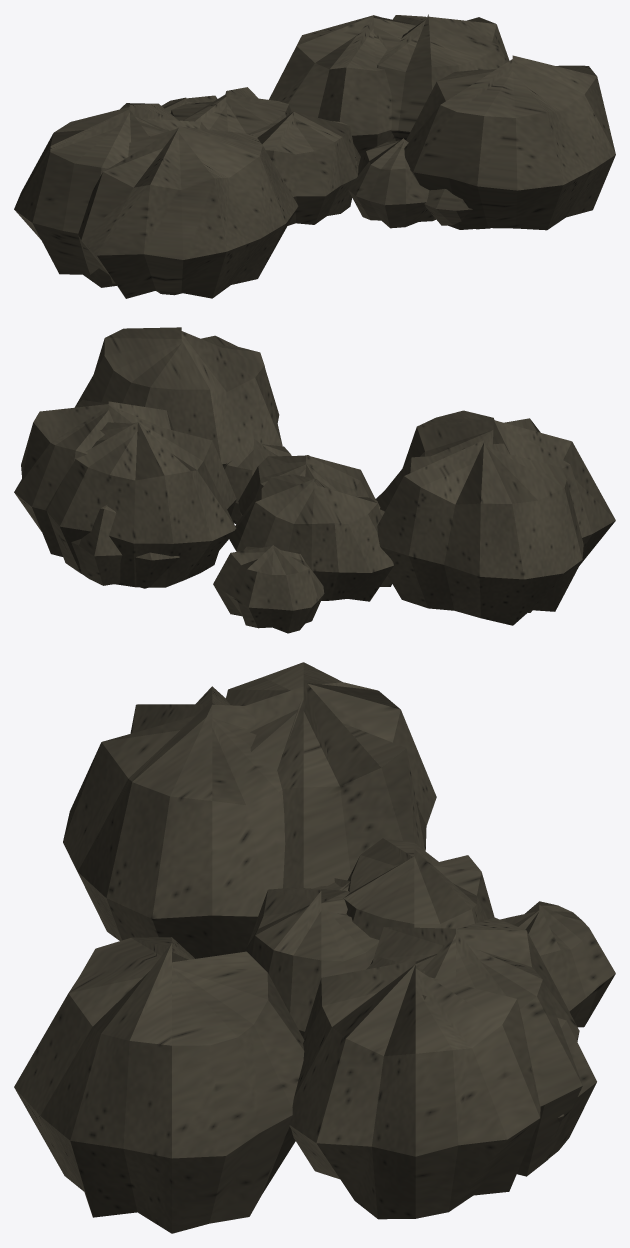
Rendered from PROP-FA8578652230_lod0.glb.
The picture shows the model from 3 angles, top to bottom: view 1: azimuth 30°, elevation 25°; view 2: azimuth 150°, elevation 25°; view 3: azimuth 270°, elevation 25°; orthographic projection. The views are drawn at different scales.
Visible parts, largest first — view 1: rock; view 2: rock; view 3: rock.
Part boxes in pixels (bbox=[...]): rock: bbox=[14, 14, 615, 298]; rock: bbox=[14, 327, 615, 633]; rock: bbox=[14, 662, 615, 1233].
Bounding box in the file's own units: 1.71 × 0.4671 × 1.07.
Materials: 1 (1 with a texture image).
